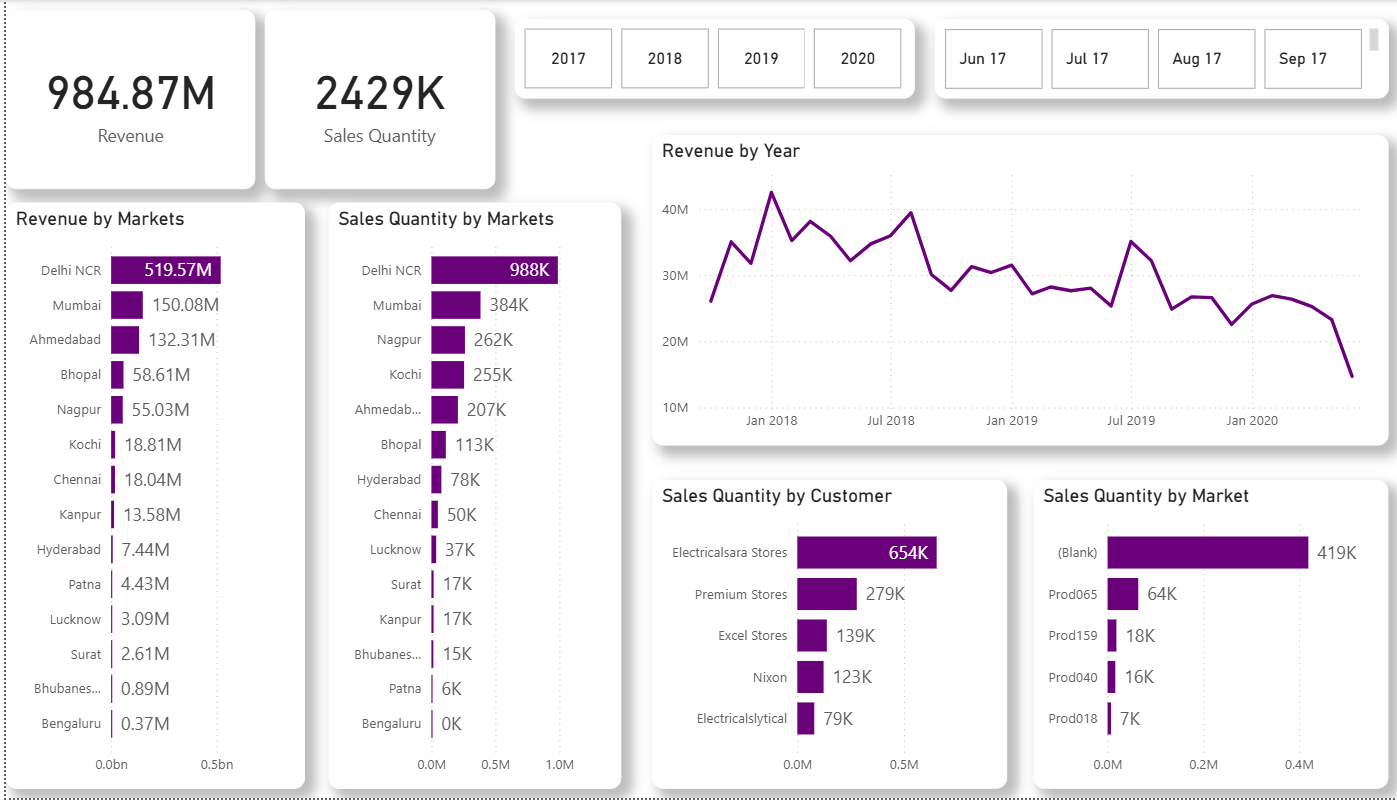

What the dashboard file says about the page in this screenshot:
{"tool":"powerbi","page":{"name":"Page 1","canvas":[1280,720],"ordinal":0},"visuals":[{"type":"card","fields":{"Values":["BaseMeasure.Revenue"]},"box":[0,8.7,225.2,161.7],"z":0},{"type":"card","fields":{"Values":["BaseMeasure.Sales Quantity"]},"box":[233.9,8.7,207.7,161.7],"z":1000},{"type":"barChart","title":"Revenue by Markets","fields":{"Y":["BaseMeasure.Revenue"],"Category":["sales markets.markets_name"]},"box":[0,182.9,269.9,528.7],"z":2000},{"type":"barChart","title":"Sales Quantity by Markets","fields":{"Y":["BaseMeasure.Sales Quantity"],"Category":["sales markets.markets_name"]},"box":[291.1,182.9,263.7,528.7],"z":3000},{"type":"advancedSlicerVisual","fields":{"Values":["sales date.year"]},"box":[459,17.4,360.7,72.1],"z":4000},{"type":"advancedSlicerVisual","fields":{"Values":["sales date.cy_date"]},"box":[837.2,17.4,409.3,72.1],"z":5000},{"type":"barChart","title":"Sales Quantity by Customer","fields":{"Y":["BaseMeasure.Sales Quantity"],"Category":["sales customers.custmer_name"]},"box":[582.2,432.9,319.7,278.6],"z":6000},{"type":"barChart","title":"Sales Quantity by Market","fields":{"Y":["BaseMeasure.Sales Quantity"],"Category":["sales products.product_code"]},"box":[926.7,432.9,319.7,278.6],"z":7000},{"type":"lineChart","title":"Revenue by Year","fields":{"Y":["BaseMeasure.Revenue"],"Category":["sales date.cy_date"]},"box":[582.2,121.9,664.3,279.9],"z":8000}]}

Visuals, with their boxes in screenshot pixels (x1, y1, x2, y2), scaled from the page's 1280x720 canvas onto the 1397x801 screenshot:
card - BaseMeasure.Revenue: box(0, 10, 246, 190)
card - BaseMeasure.Sales Quantity: box(255, 10, 482, 190)
"Revenue by Markets" barChart: box(0, 203, 295, 792)
"Sales Quantity by Markets" barChart: box(318, 203, 606, 792)
advancedSlicerVisual - sales date.year: box(501, 19, 895, 100)
advancedSlicerVisual - sales date.cy_date: box(914, 19, 1360, 100)
"Sales Quantity by Customer" barChart: box(635, 482, 984, 792)
"Sales Quantity by Market" barChart: box(1011, 482, 1360, 792)
"Revenue by Year" lineChart: box(635, 136, 1360, 447)
